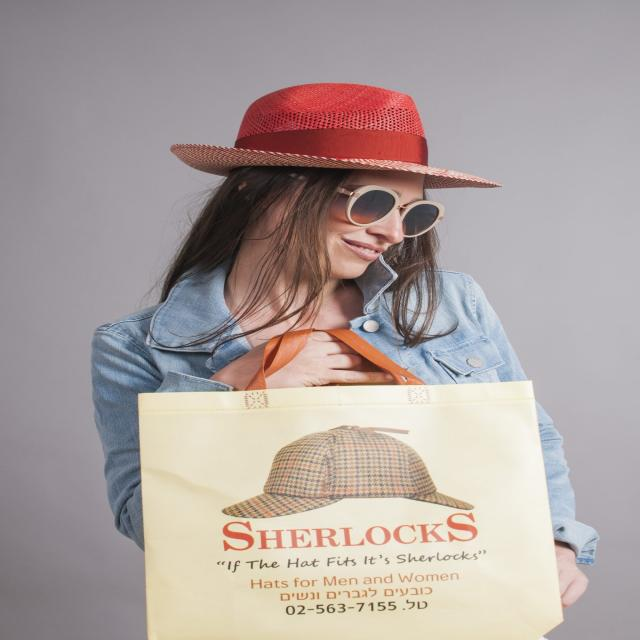hat: (180, 83, 503, 284)
